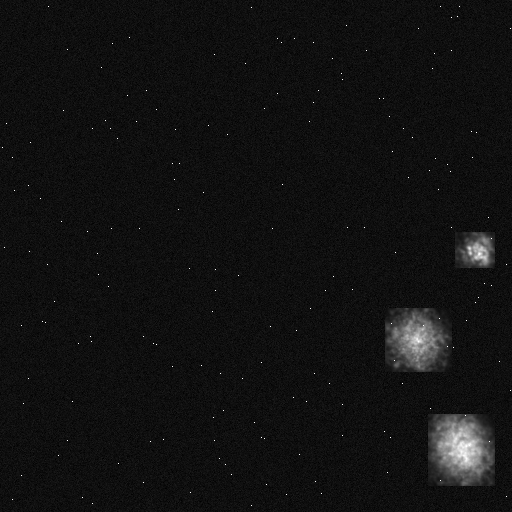lam1: (455, 232, 494, 267)
lam3: (428, 414, 494, 485), (385, 308, 451, 371)
